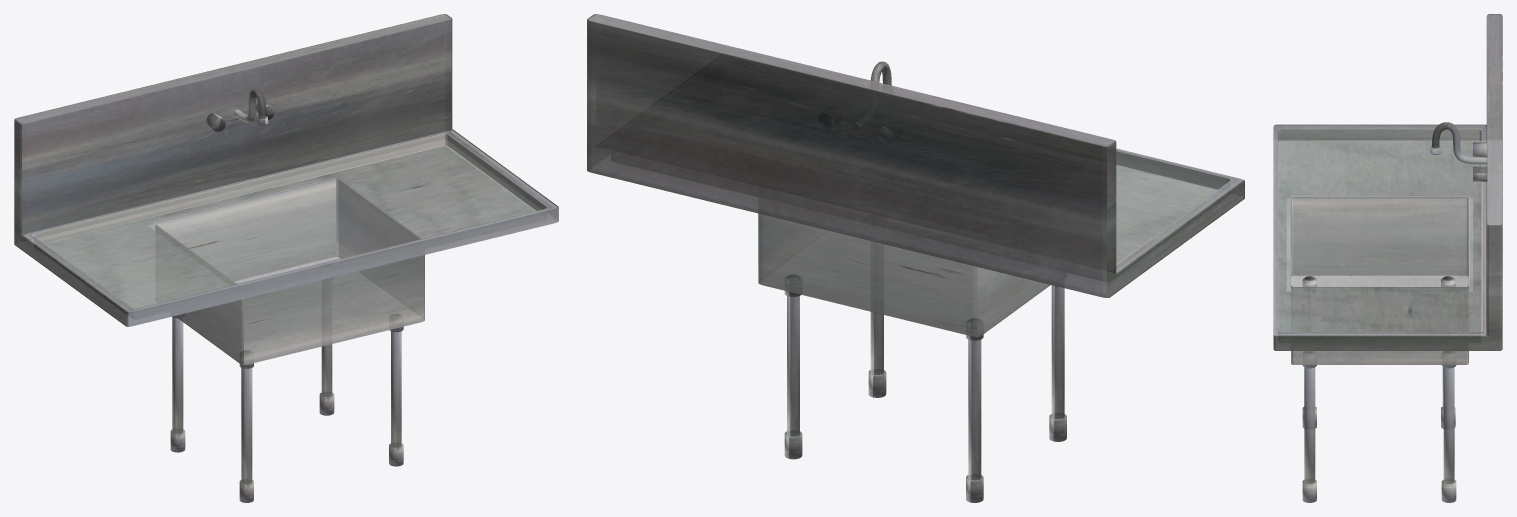
Rendered from Sink.glb.
The picture shows the model from 3 angles, left to right: view 1: azimuth 30°, elevation 25°; view 2: azimuth 150°, elevation 25°; view 3: azimuth 270°, elevation 25°; orthographic projection. The views are drawn at different scales.
Parts seen in each view (by area): view 1: Cube, Cylinder.003, Cylinder.001, Cylinder.004, Cylinder.002, NurbsPath; view 2: Cube, Cylinder.004, Cylinder.002, Cylinder.003, Cylinder.001; view 3: Cube, Cylinder.002, Cylinder.001, NurbsPath, Cylinder.004.
Boxes of the visible parts, x1=… form: Cube: x1=14, y1=14, x2=558, y2=365; Cylinder.003: x1=239, y1=350, x2=253, y2=502; Cylinder.001: x1=389, y1=314, x2=403, y2=466; Cylinder.004: x1=170, y1=316, x2=185, y2=452; Cylinder.002: x1=319, y1=344, x2=334, y2=415; NurbsPath: x1=234, y1=88, x2=266, y2=122; Cube: x1=587, y1=14, x2=1244, y2=337; Cylinder.004: x1=966, y1=318, x2=983, y2=502; Cylinder.002: x1=784, y1=274, x2=802, y2=459; Cylinder.003: x1=1049, y1=285, x2=1066, y2=441; Cylinder.001: x1=868, y1=311, x2=886, y2=397; Cube: x1=1273, y1=14, x2=1502, y2=364; Cylinder.002: x1=1441, y1=351, x2=1456, y2=502; Cylinder.001: x1=1302, y1=351, x2=1316, y2=502; NurbsPath: x1=1432, y1=122, x2=1487, y2=164; Cylinder.004: x1=1441, y1=276, x2=1455, y2=428.
Size of the model in its own units: 4.69 by 3.57 by 2.15.
1 material, 1 textured.
